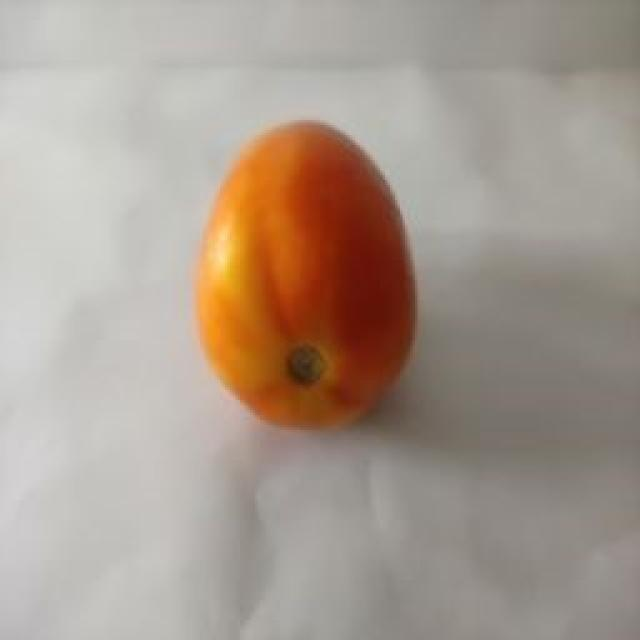Ripe: (187, 111, 425, 439)
